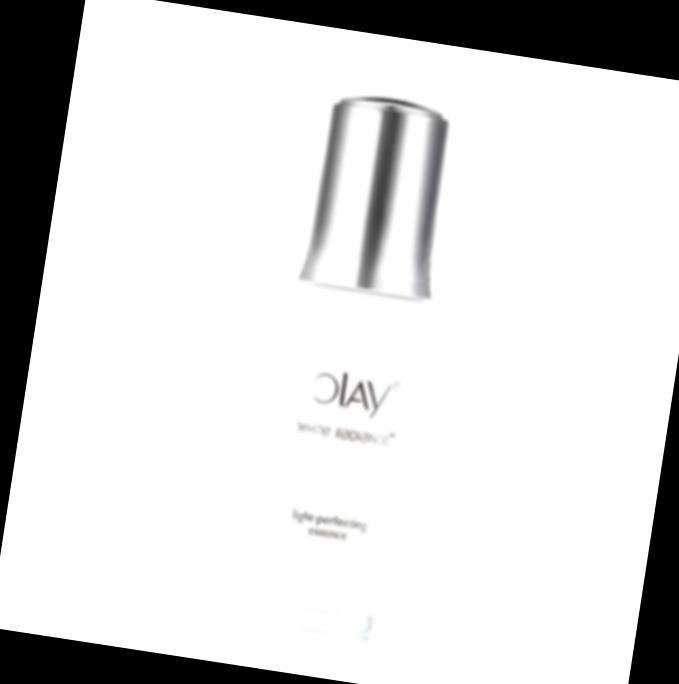cosmetic: (244, 86, 461, 635)
